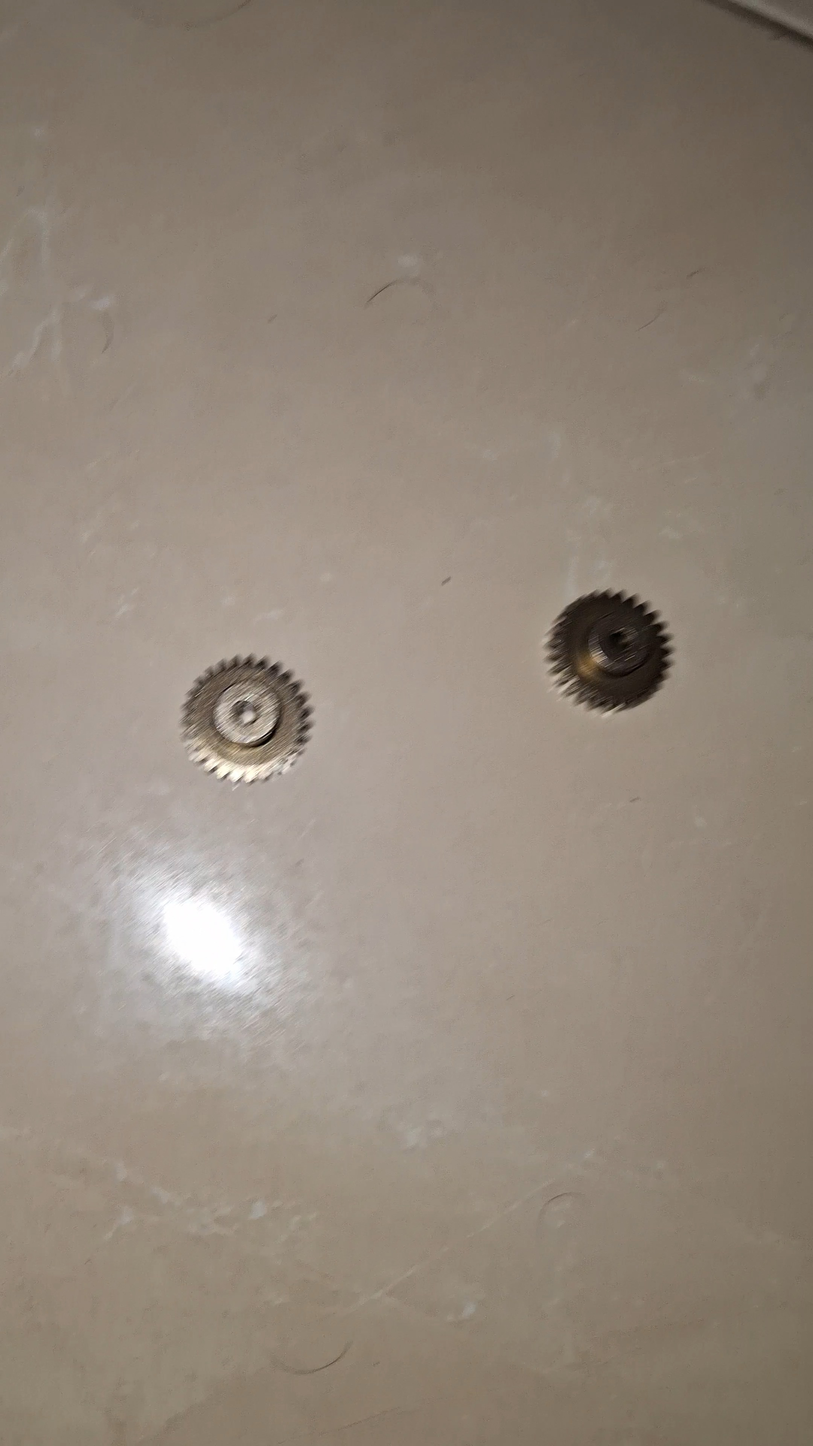spur gear: (181, 656, 311, 782), (548, 592, 671, 711)
